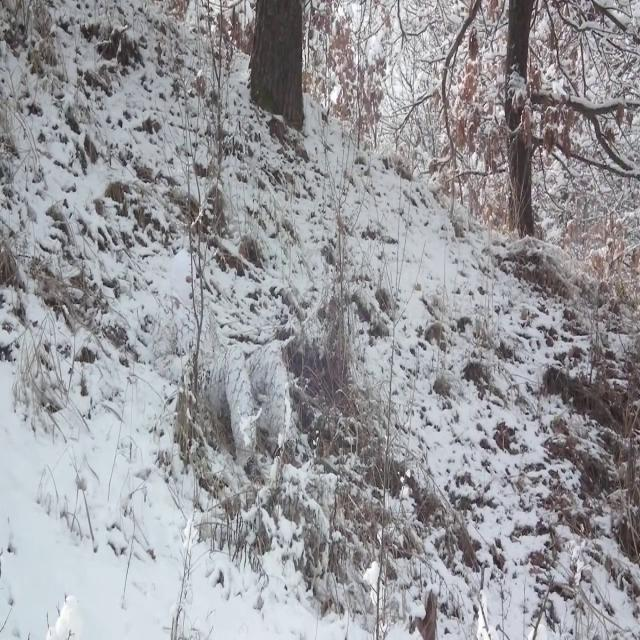Camouflage: (150, 246, 297, 457)
